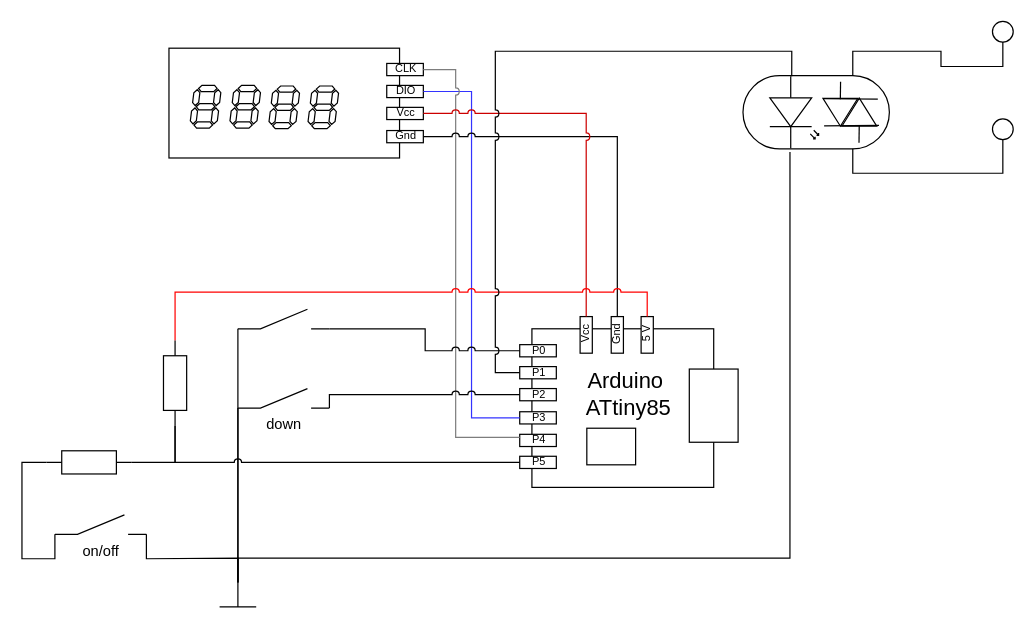
Some shapes in this 1035 by 628 pixel diagram are drawn without their labels. Each missing label, with the centre of its shape:
up: (x=283, y=318)
USB: (x=713, y=405)
